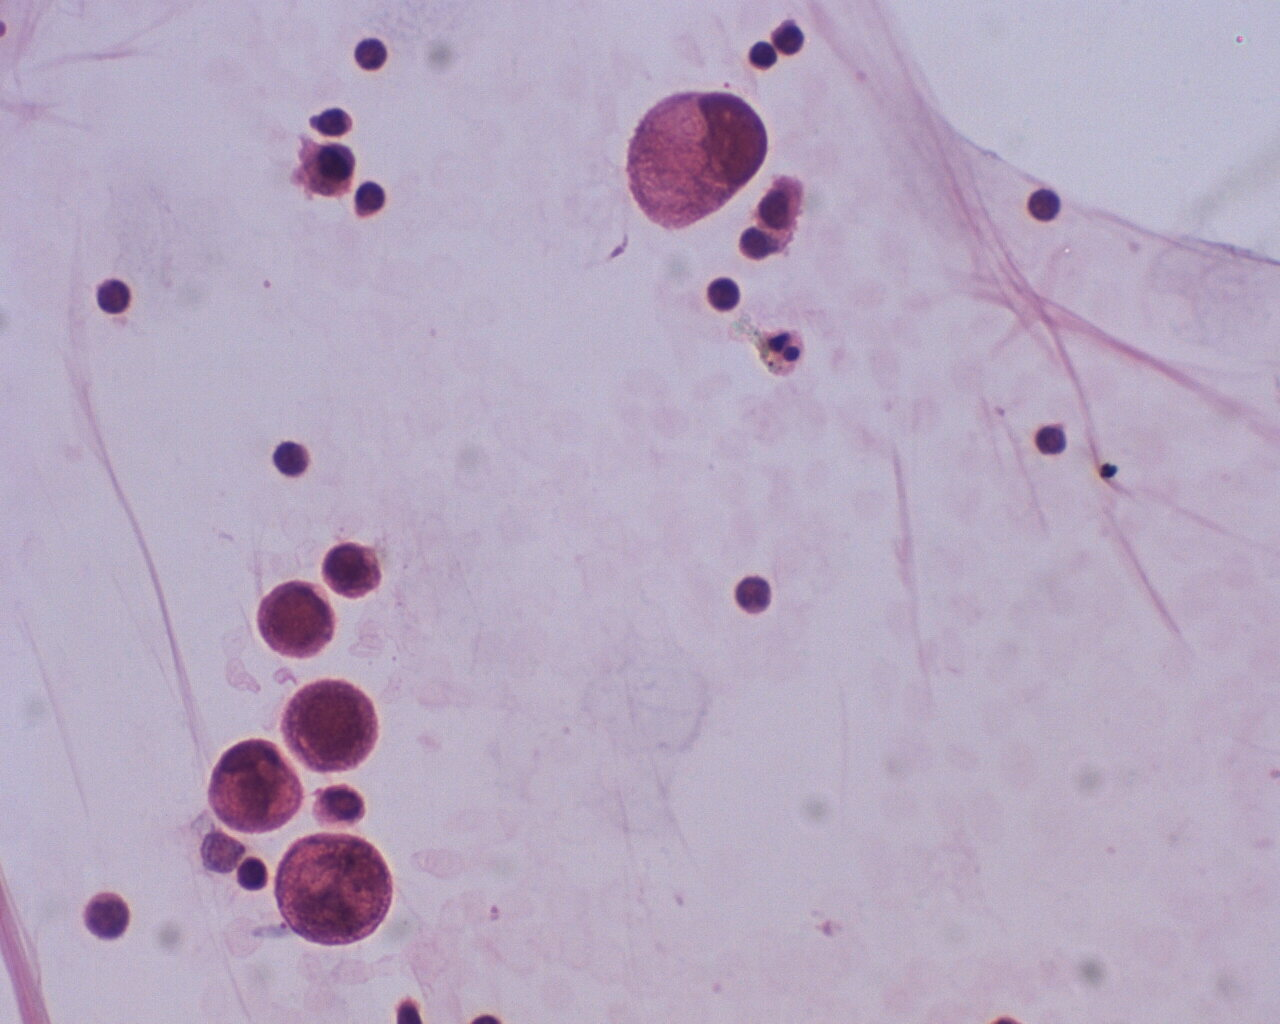ab: (627, 80, 770, 233), (273, 827, 398, 948), (200, 734, 307, 840), (283, 673, 380, 775), (249, 576, 338, 662), (323, 536, 385, 607)
lymph: (730, 571, 778, 616), (264, 436, 312, 481), (89, 274, 137, 319), (700, 272, 744, 320), (230, 852, 272, 897)
